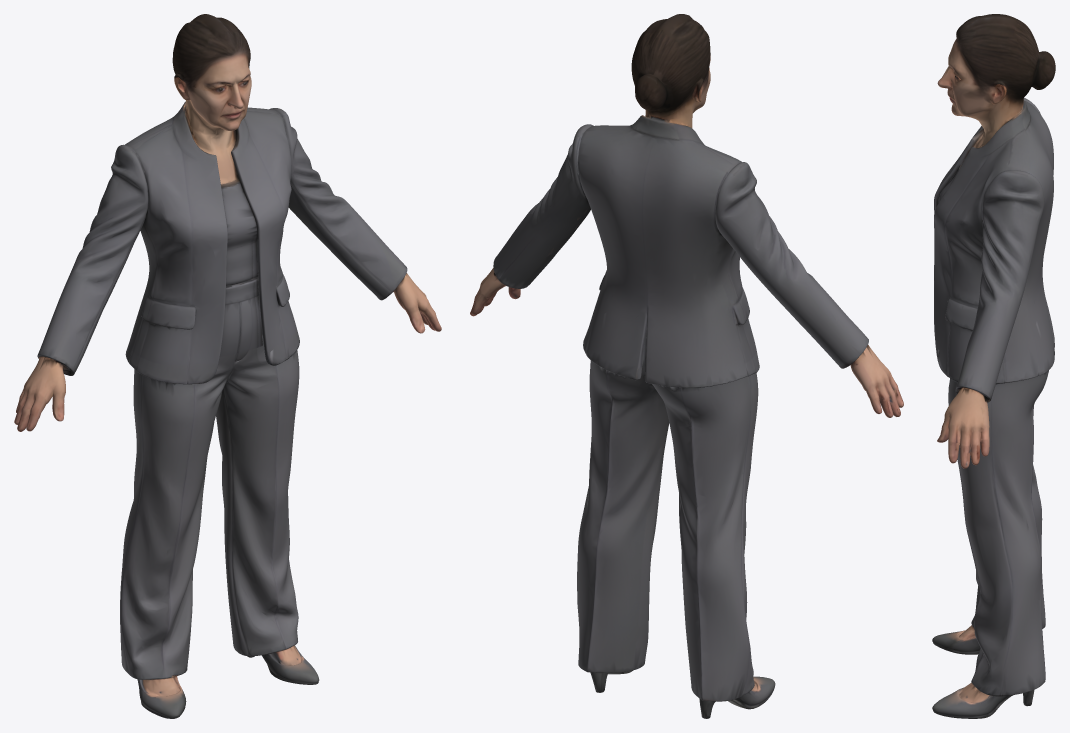
The model's file is Flavia.glb.
The picture shows the model from 3 angles, left to right: view 1: azimuth 30°, elevation 25°; view 2: azimuth 150°, elevation 25°; view 3: azimuth 270°, elevation 25°; orthographic projection.
Parts seen in each view (by area): view 1: FLAVIA; view 2: FLAVIA; view 3: FLAVIA.
Part boxes in pixels (x1,y1,x2,y2): FLAVIA: (14,14,441,718); FLAVIA: (470,14,903,718); FLAVIA: (932,14,1055,718).
Size of the model in its own units: 1.14 by 1.72 by 0.2903.
1 material, 1 textured.
